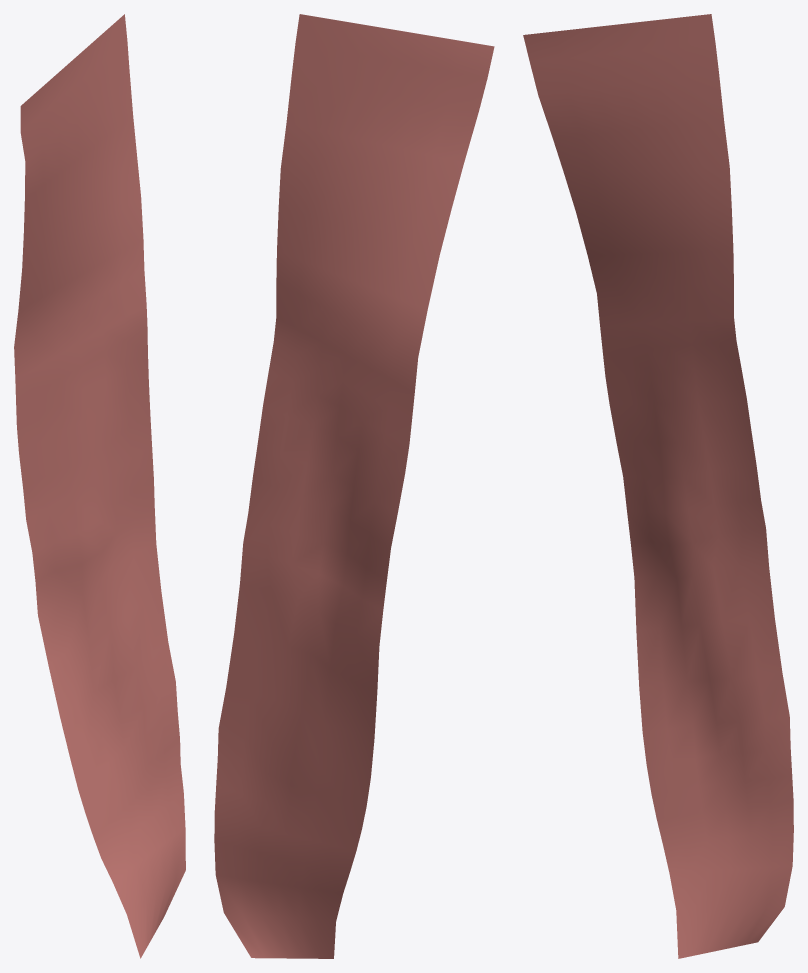
3 renders of one model, left to right at view 1: azimuth 30°, elevation 25°; view 2: azimuth 150°, elevation 25°; view 3: azimuth 330°, elevation 25°, orthographic. The views are drawn at different scales.
Visible parts, largest first — view 1: ZA_28f75bfdb8581e54; view 2: ZA_28f75bfdb8581e54; view 3: ZA_28f75bfdb8581e54.
Boxes of the visible parts, x1,y1,x2,y2 form: ZA_28f75bfdb8581e54: (14,14,185,958); ZA_28f75bfdb8581e54: (214,14,494,958); ZA_28f75bfdb8581e54: (523,14,793,958).
Size of the model in its own units: 0.0347 by 0.1416 by 0.0153.
